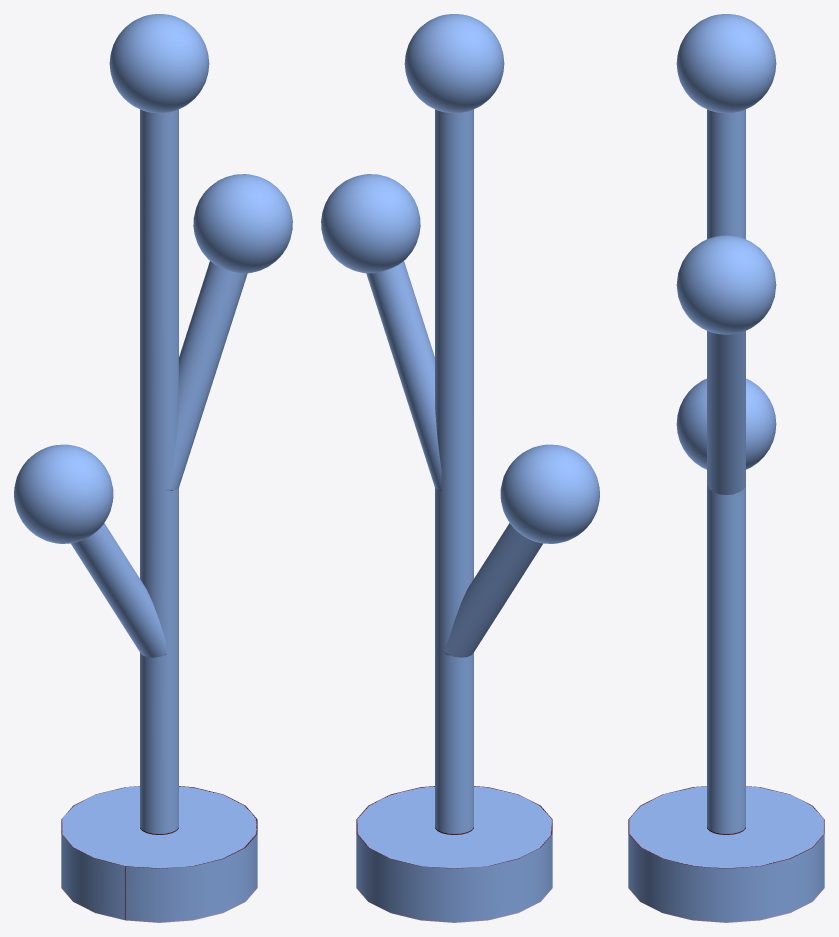
File: 내부1_옷걸이.fbx
3 views of the same model, side by side, from view 1: azimuth 30°, elevation 25°; view 2: azimuth 150°, elevation 25°; view 3: azimuth 270°, elevation 25° (orthographic).
Parts seen in each view (by area): view 1: Cylinder001; view 2: Cylinder001; view 3: Cylinder001.
Boxes of the visible parts, bbox=[...] form: Cylinder001: bbox=[14, 14, 292, 922]; Cylinder001: bbox=[321, 14, 599, 922]; Cylinder001: bbox=[628, 14, 824, 922].
Bounding box in the file's own units: 30.8 × 95.5 × 19.7.
Materials: 1 (1 with a texture image).
